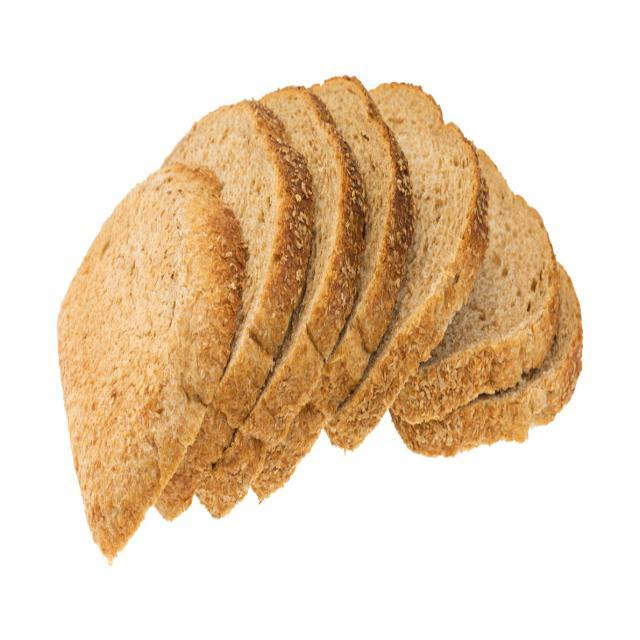Bread: (57, 78, 579, 554)
